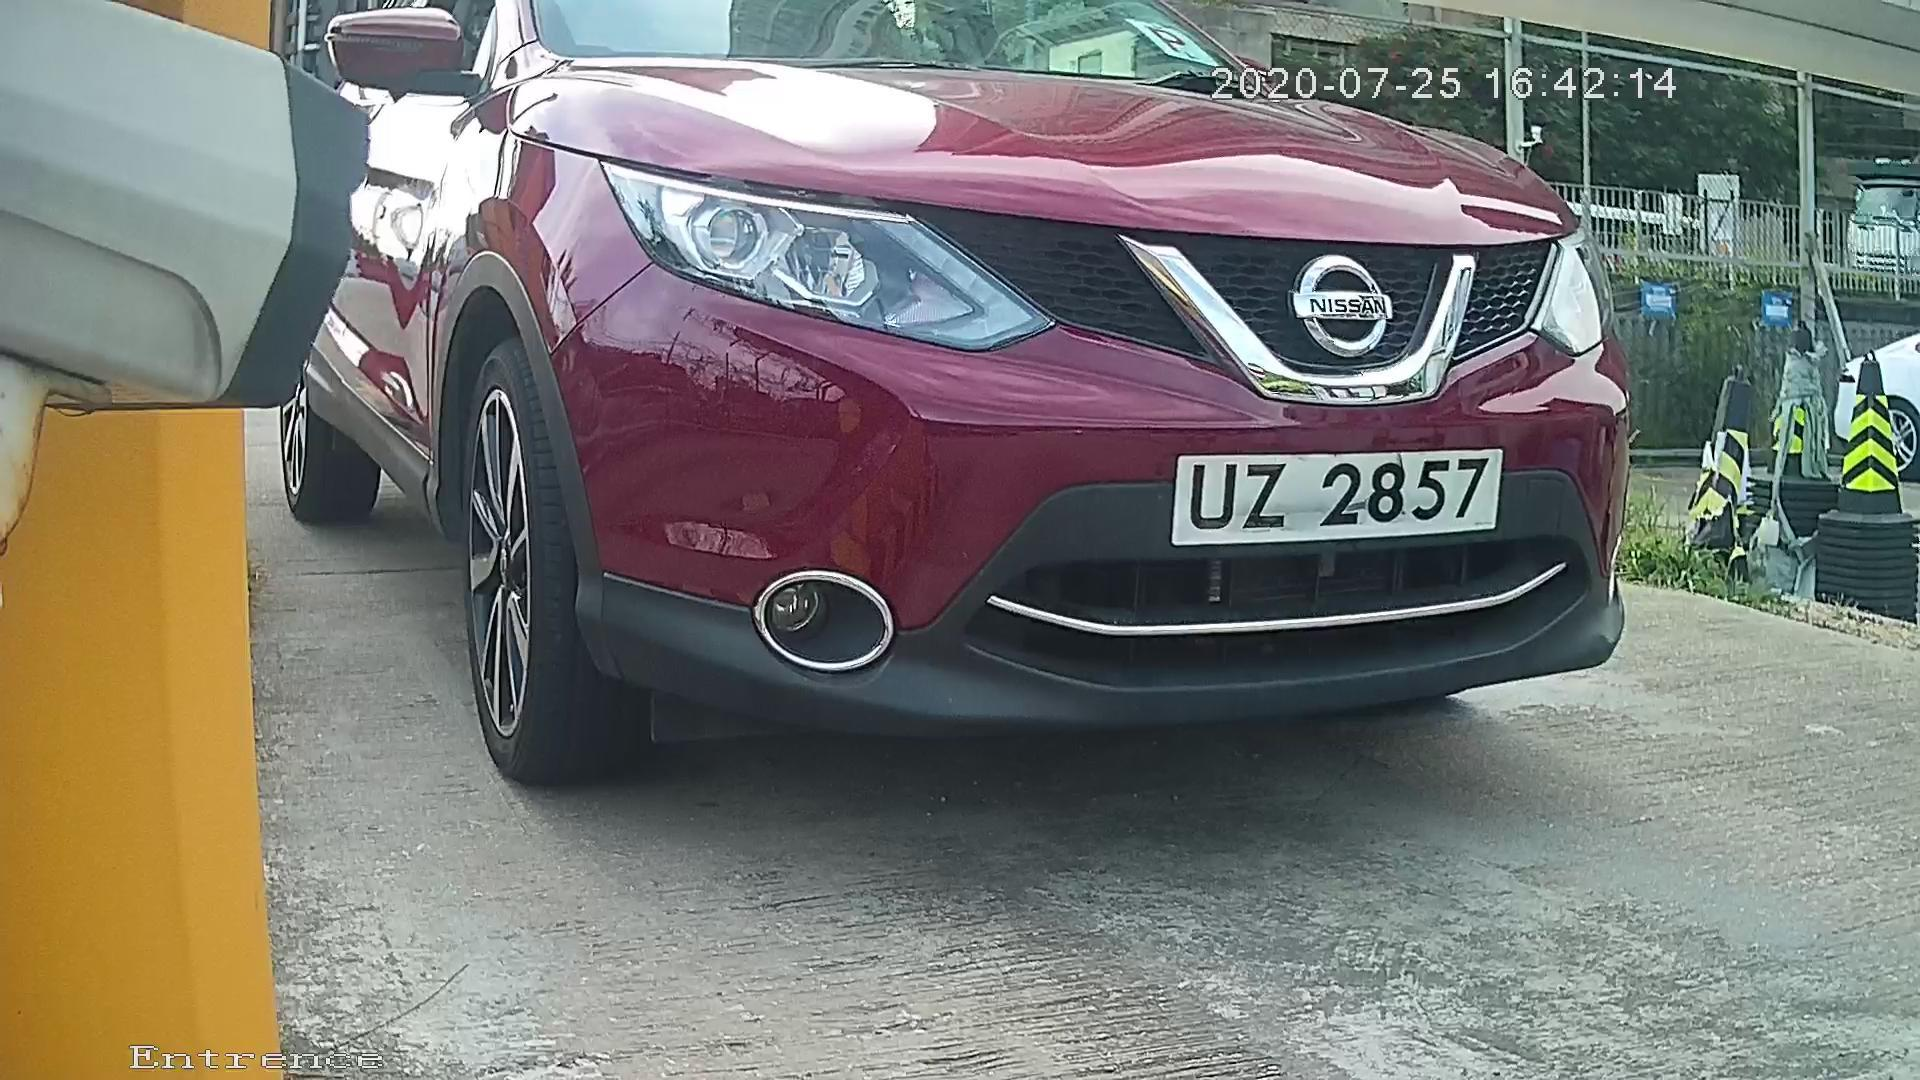privatecar: (276, 20, 1801, 820)
